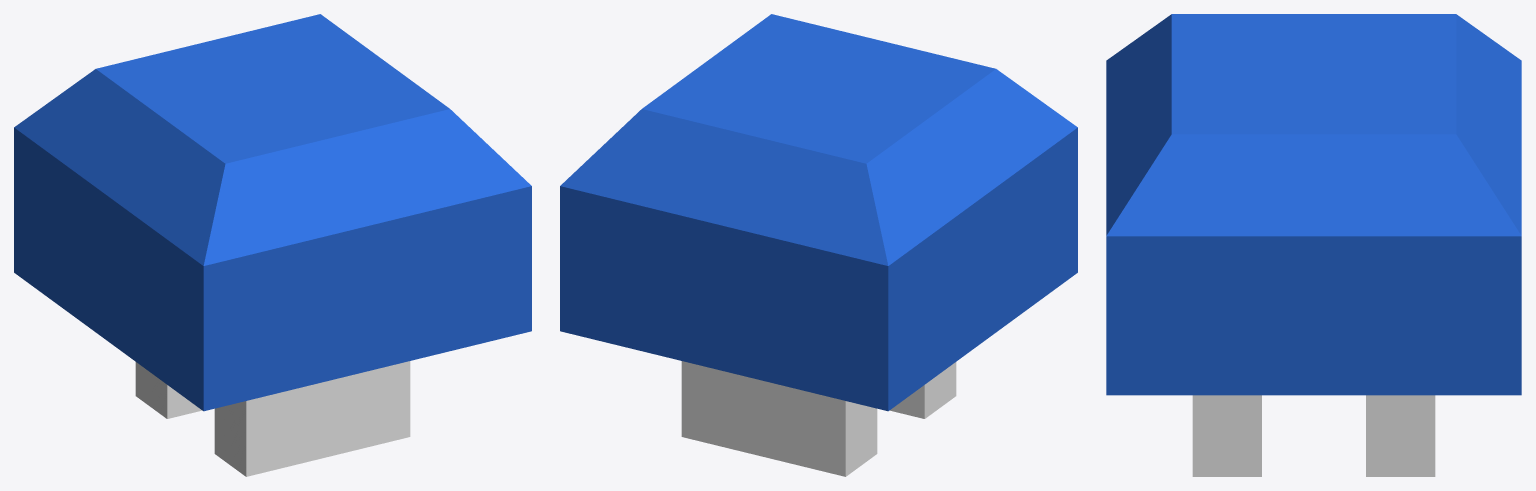
File: Concent.fbx
The picture shows the model from 3 angles, left to right: view 1: azimuth 30°, elevation 25°; view 2: azimuth 150°, elevation 25°; view 3: azimuth 270°, elevation 25°; orthographic projection. The views are drawn at different scales.
Parts seen in each view (by area): view 1: Code, Code2, Code1; view 2: Code, Code1, Code2; view 3: Code, Code1, Code2.
Boxes of the visible parts, <box> form: Code: <box>14,14,531,411</box>; Code2: <box>214,361,410,476</box>; Code1: <box>135,362,201,418</box>; Code: <box>560,14,1077,411</box>; Code1: <box>681,361,877,476</box>; Code2: <box>890,362,956,418</box>; Code: <box>1106,14,1521,395</box>; Code1: <box>1366,395,1435,476</box>; Code2: <box>1192,395,1261,476</box>.
Size of the model in its own units: 240 by 229 by 240.
